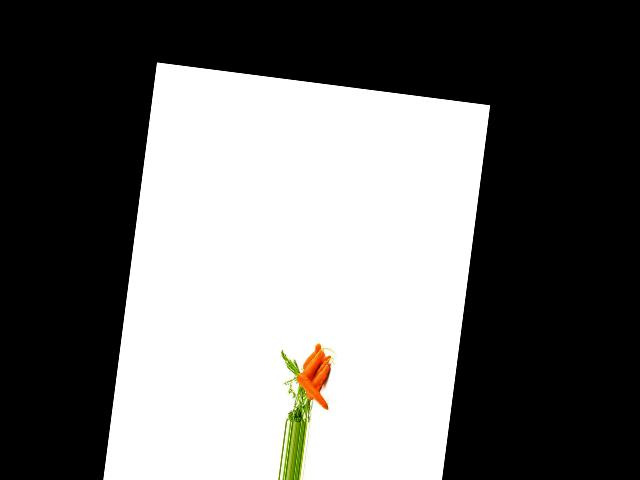carrot: (305, 355, 330, 403)
